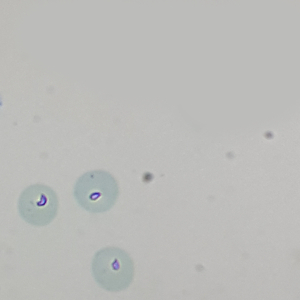erythrocyte: (90, 244, 137, 293), (72, 169, 121, 215), (15, 182, 61, 229)
